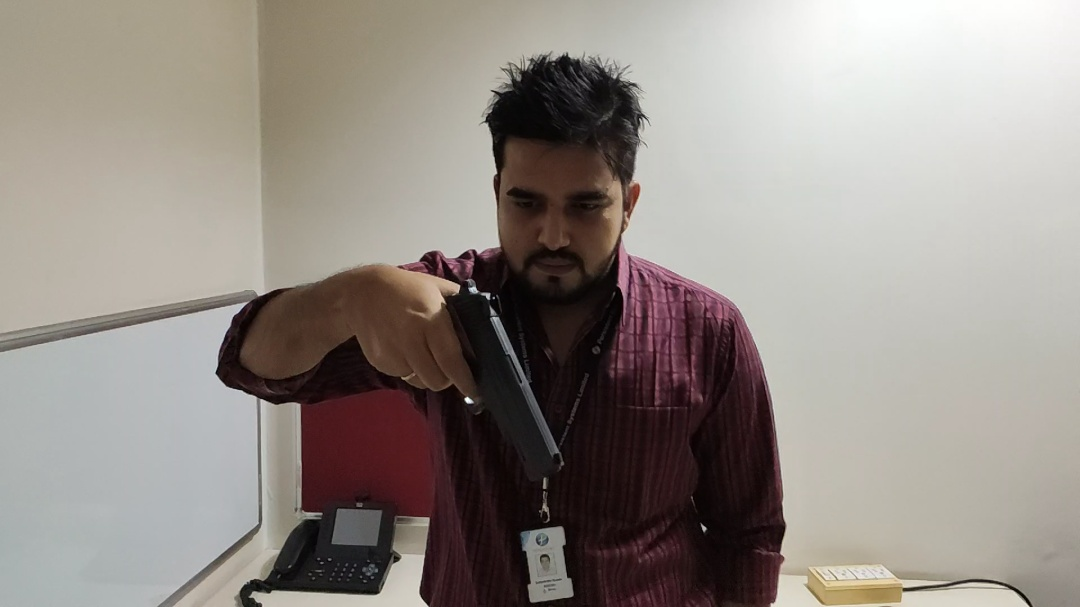gun: (400, 276, 569, 491)
